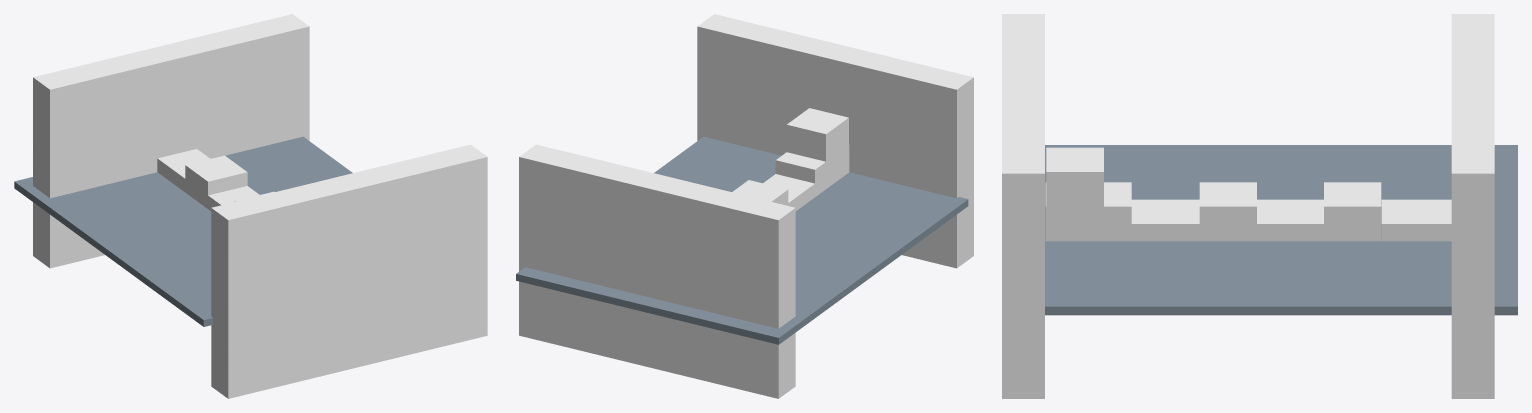
Rendered from LevelModule_1.fbx.
3 views of the same model, side by side, from view 1: azimuth 30°, elevation 25°; view 2: azimuth 150°, elevation 25°; view 3: azimuth 270°, elevation 25° (orthographic). The views are drawn at different scales.
Visible parts, largest first — view 1: StaticMeshActor_112; view 2: StaticMeshActor_112; view 3: StaticMeshActor_112.
Part boxes in pixels (bbox=[...]): StaticMeshActor_112: bbox=[14, 14, 487, 398]; StaticMeshActor_112: bbox=[516, 14, 973, 398]; StaticMeshActor_112: bbox=[1002, 14, 1517, 398].
Size of the model in its own units: 2048 by 1300 by 2698.
